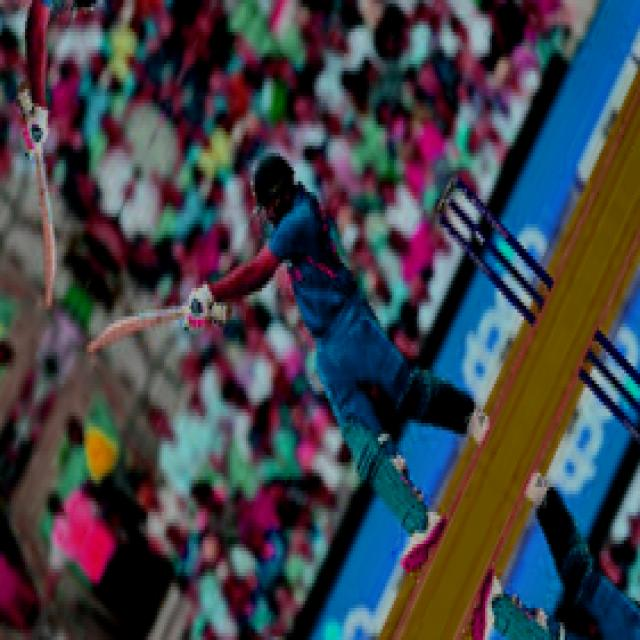toe: (80, 336, 108, 357)
